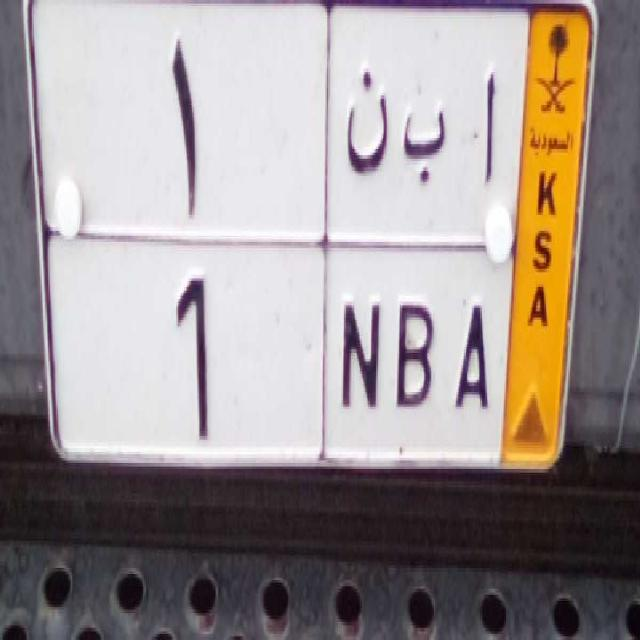license_plate: (47, 224, 508, 482)
